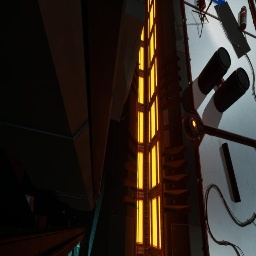0: (255, 142, 256, 144)
FirstAidBox ,: (196, 0, 206, 12)
NitrogenTank ,: (240, 6, 247, 31), (216, 78, 225, 88)
SafetySwitchPanel ,: (110, 0, 147, 122)
